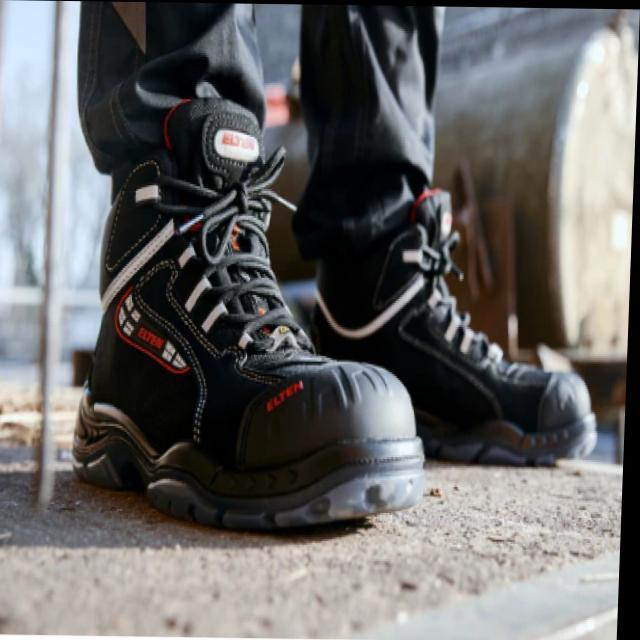shoes: (62, 96, 616, 542)
